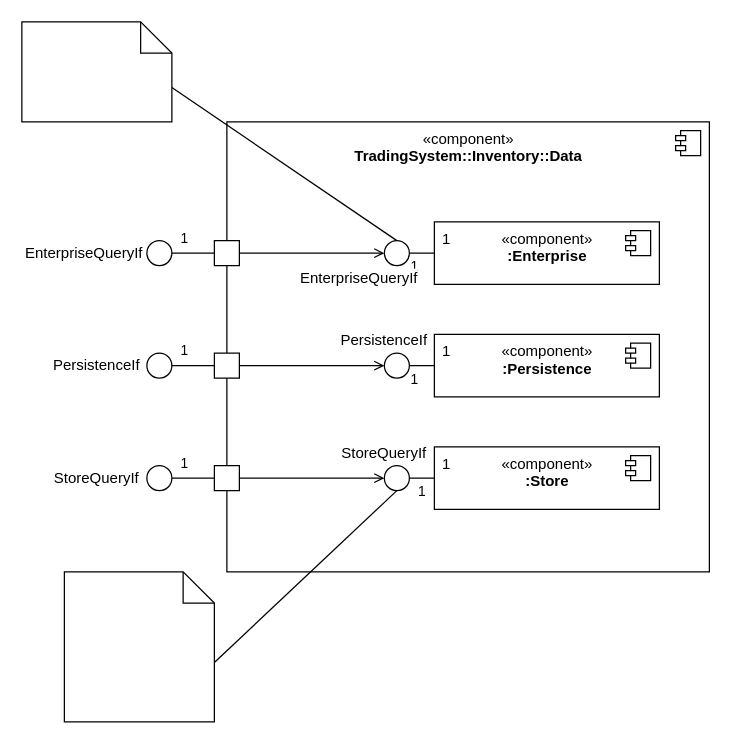
This 731x744 diagram has some shape labels left out. The shapes that lost their labels are listed below. From the top down, each one's centre as x and y in pixels, then its label:
At point (96, 71): "TradingEnterprise ProductSupplier".
At point (138, 646): "OrderEntry ProductOrder StockItem Store Product".
